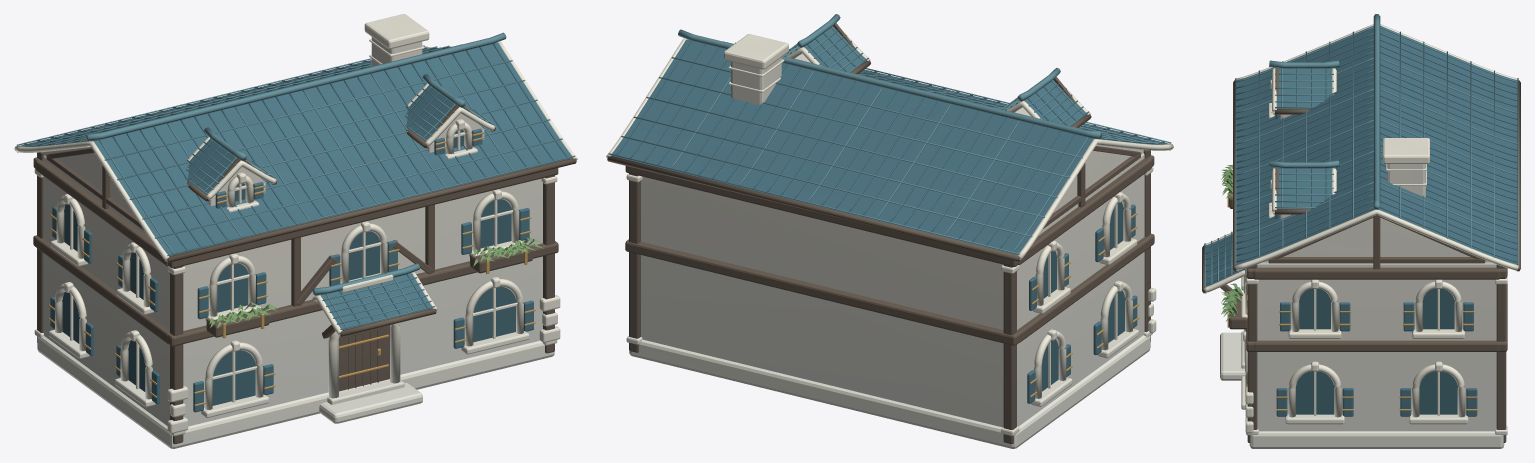
The model's file is inn.glb.
3 renders of one model, left to right at view 1: azimuth 30°, elevation 25°; view 2: azimuth 150°, elevation 25°; view 3: azimuth 270°, elevation 25°, orthographic. The views are drawn at different scales.
Parts seen in each view (by area): view 1: Mineral blue roof slate, Sunwashed ivory plaster, Carved pale limestone, Weathered walnut beams, Sunlit blue slate edges, Dusky blue window, Warm brass accents, Garden foliage; view 2: Sunwashed ivory plaster, Mineral blue roof slate, Weathered walnut beams, Carved pale limestone, Sunlit blue slate edges, Dusky blue window; view 3: Mineral blue roof slate, Sunwashed ivory plaster, Carved pale limestone, Weathered walnut beams, Sunlit blue slate edges, Dusky blue window, Garden foliage, Warm brass accents.
Part boxes in pixels (bbox=[...]): Mineral blue roof slate: bbox=[19, 42, 573, 412]; Sunwashed ivory plaster: bbox=[43, 37, 542, 426]; Carved pale limestone: bbox=[14, 14, 577, 448]; Weathered walnut beams: bbox=[17, 62, 576, 444]; Sunlit blue slate edges: bbox=[16, 32, 575, 329]; Dusky blue window: bbox=[62, 130, 516, 405]; Warm brass accents: bbox=[48, 132, 535, 406]; Garden foliage: bbox=[209, 237, 543, 328]; Sunwashed ivory plaster: bbox=[641, 53, 1144, 427]; Mineral blue roof slate: bbox=[610, 26, 1168, 403]; Weathered walnut beams: bbox=[607, 23, 1170, 443]; Carved pale limestone: bbox=[606, 30, 1173, 448]; Sunlit blue slate edges: bbox=[608, 14, 1171, 254]; Dusky blue window: bbox=[1041, 202, 1125, 391]; Mineral blue roof slate: bbox=[1205, 25, 1517, 416]; Sunwashed ivory plaster: bbox=[1257, 114, 1496, 431]; Carved pale limestone: bbox=[1204, 24, 1518, 448]; Weathered walnut beams: bbox=[1202, 67, 1520, 442]; Sunlit blue slate edges: bbox=[1204, 14, 1518, 287]; Dusky blue window: bbox=[1296, 288, 1458, 414]; Garden foliage: bbox=[1221, 165, 1243, 321]; Warm brass accents: bbox=[1227, 112, 1477, 410].
Bounding box in the file's own units: 8.41 × 5.53 × 5.93.
